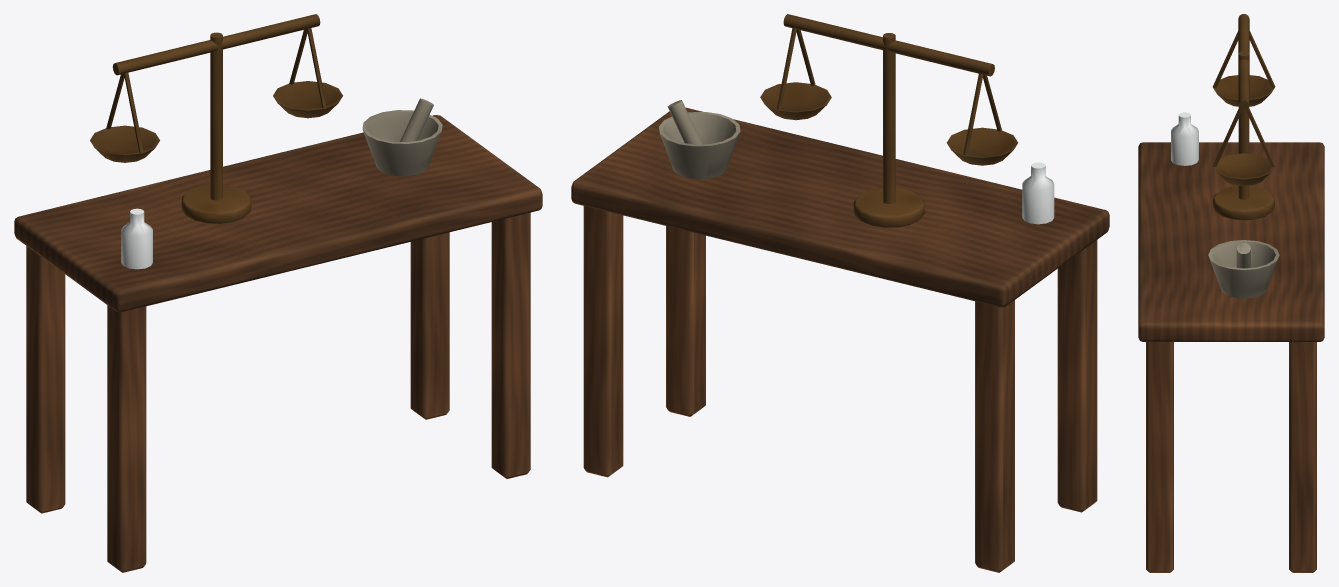
The model's file is Furn_Brew_ScaleTable.fbx.
3 views of the same model, side by side, from view 1: azimuth 30°, elevation 25°; view 2: azimuth 150°, elevation 25°; view 3: azimuth 270°, elevation 25° (orthographic). The views are drawn at different scales.
Visible parts, largest first — view 1: Furn_Brew_ScaleTable; view 2: Furn_Brew_ScaleTable; view 3: Furn_Brew_ScaleTable.
Part boxes in pixels (x1=…): Furn_Brew_ScaleTable: x1=14, y1=14, x2=542, y2=572; Furn_Brew_ScaleTable: x1=571, y1=14, x2=1109, y2=572; Furn_Brew_ScaleTable: x1=1138, y1=14, x2=1324, y2=572.
Bounding box in the file's own units: 1.4 × 1.45 × 0.6.
Materials: 4 (3 with a texture image).
